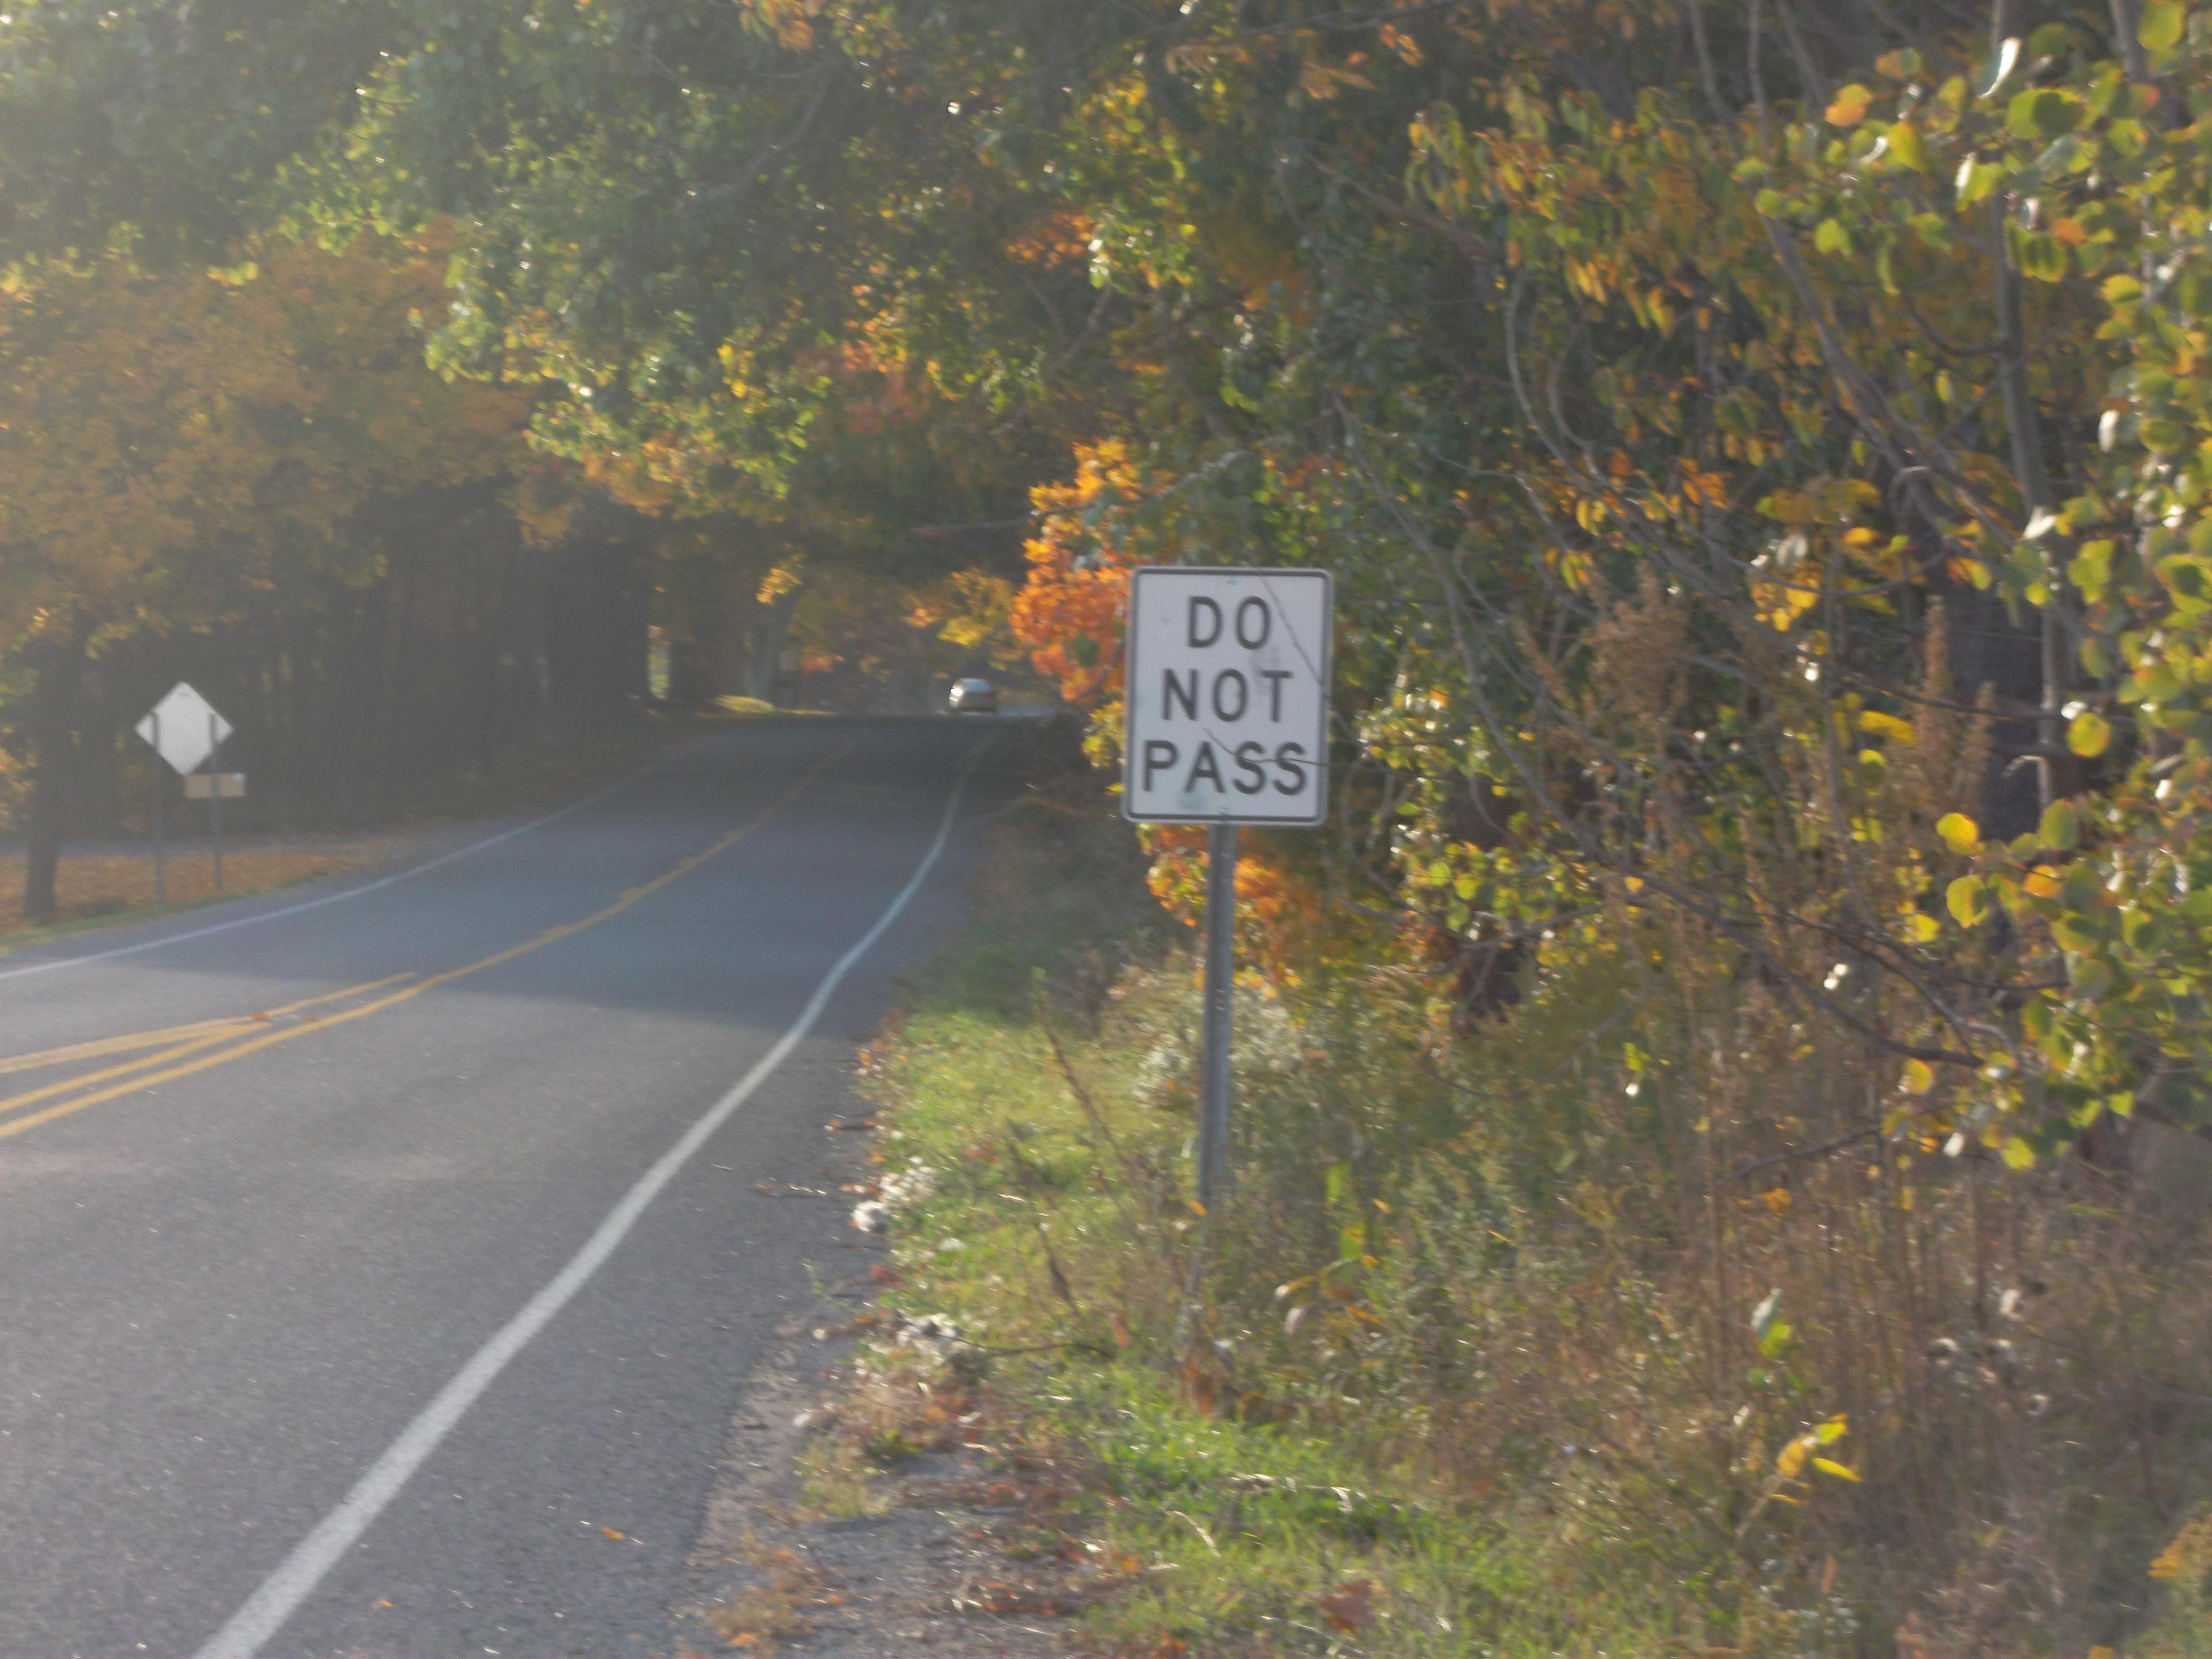regulatory: (1136, 572, 1325, 821)
